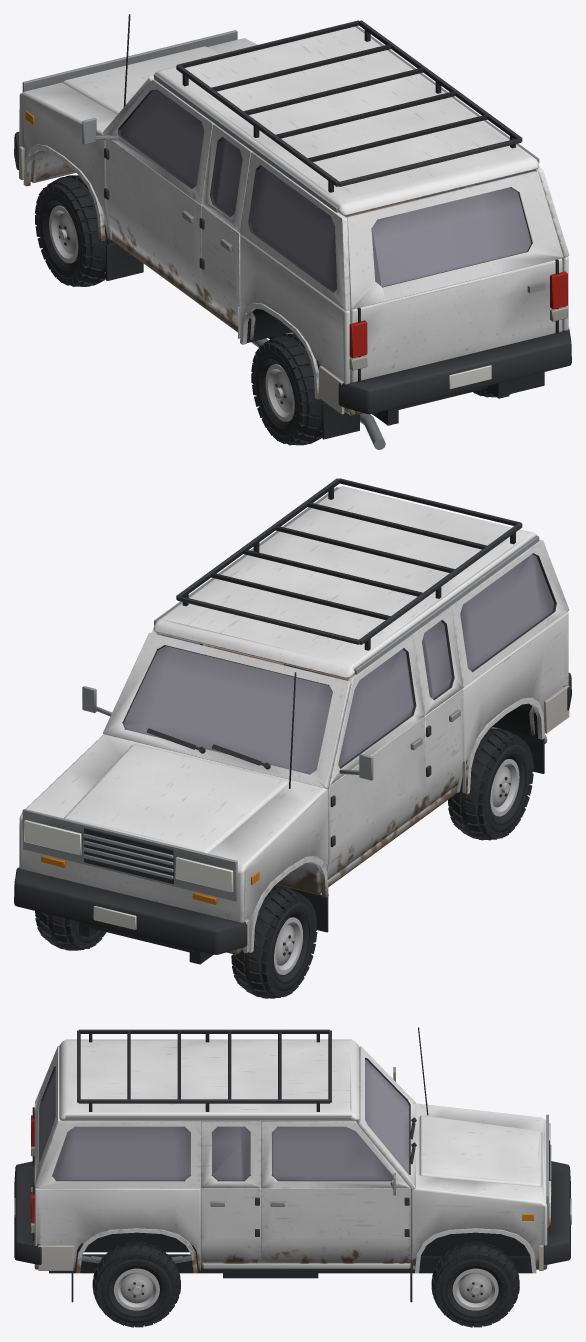
Rendered from wayfarer.glb.
The picture shows the model from 3 angles, top to bottom: view 1: azimuth 30°, elevation 25°; view 2: azimuth 150°, elevation 25°; view 3: azimuth 270°, elevation 25°; orthographic projection. The views are drawn at different scales.
Parts seen in each view (by area): view 1: body, door_FL, door_RL, wheel_FL, wheel_RL; view 2: body, door_FL, door_RL, wheel_RL, wheel_FL, wheel_FR; view 3: body, door_FR, door_RR, wheel_FR, wheel_RR.
Part boxes in pixels (<box>): body: <box>14,14,571,449</box>; door_FL: <box>82,80,214,301</box>; door_RL: <box>199,124,252,324</box>; wheel_FL: <box>35,175,114,286</box>; wheel_RL: <box>251,334,324,445</box>; body: <box>14,478,571,964</box>; door_FL: <box>327,635,424,879</box>; door_RL: <box>411,607,462,811</box>; wheel_RL: <box>448,728,533,840</box>; wheel_FL: <box>231,887,317,998</box>; wheel_FR: <box>35,911,106,950</box>; body: <box>14,1027,571,1302</box>; door_FR: <box>261,1121,410,1262</box>; door_RR: <box>201,1121,260,1262</box>; wheel_FR: <box>431,1241,519,1327</box>; wheel_RR: <box>92,1241,180,1327</box>.
Size of the model in its own units: 2.2 by 2.11 by 4.68.
Materials: 17 (1 with a texture image).
